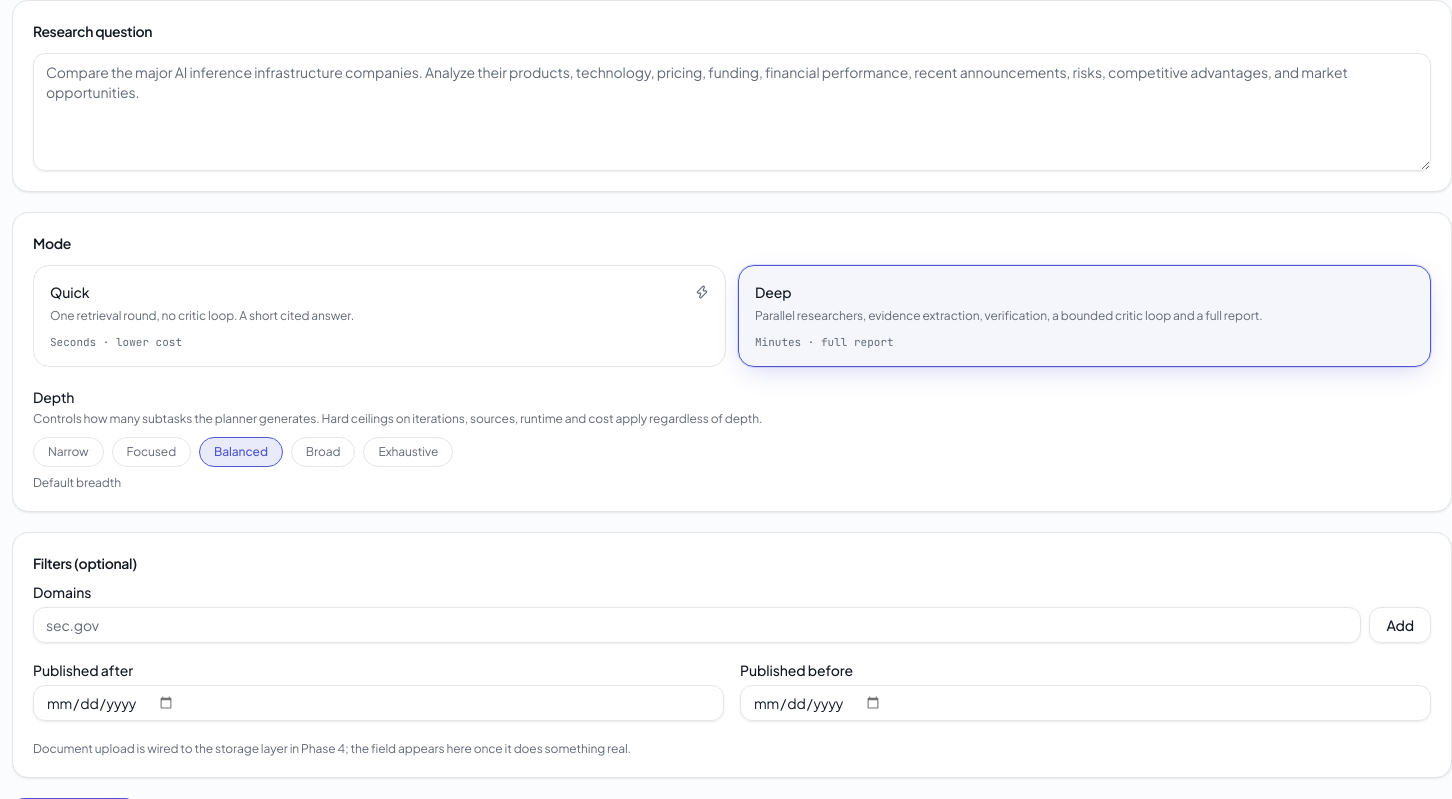
Test: NewResearchForm › hides the depth selector for quick runs, which do a single pass
The image size is (1452, 799).
Expected: the radio button with test id "depth-3" is shown, [199,437,283,467]
Click the radio button with test id "mode-quick". click: (70,292)
box: [33,265,726,367]
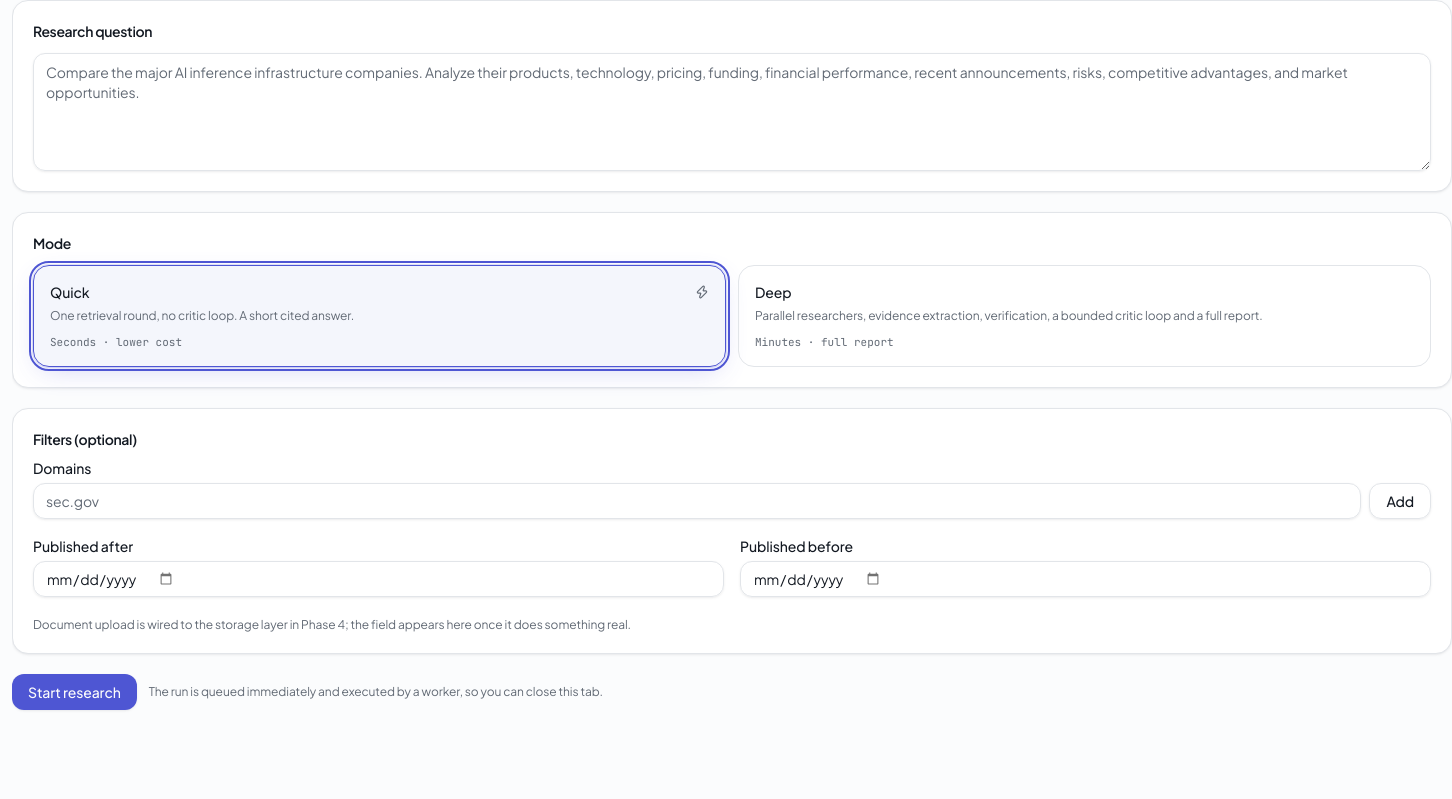
Now the radio button with test id "depth-3" is gone
